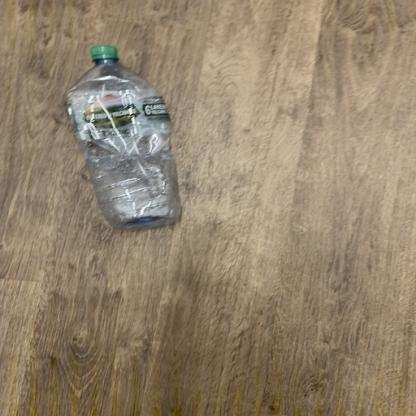trash: (67, 46, 184, 232)
